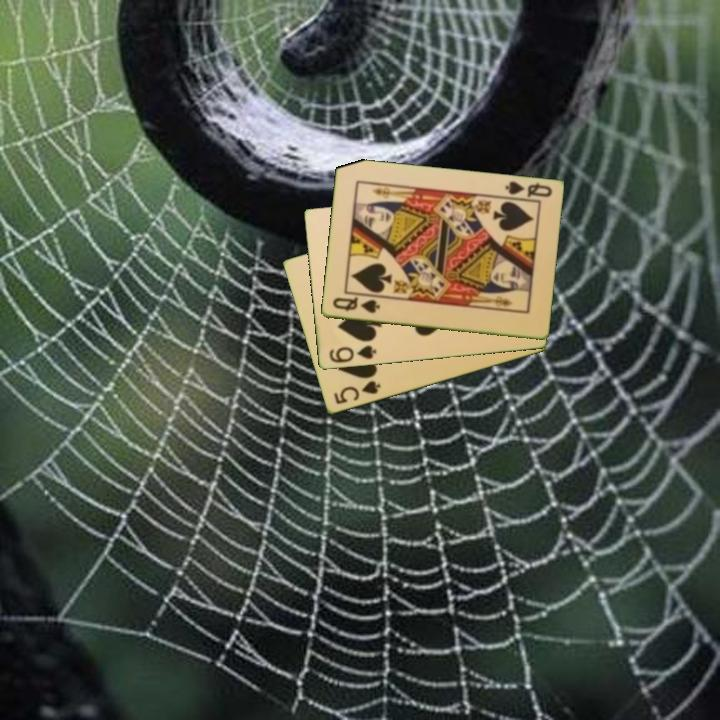5s: (330, 377, 383, 407)
6s: (325, 342, 379, 366)
Qs: (329, 294, 383, 316), (502, 178, 555, 200)
